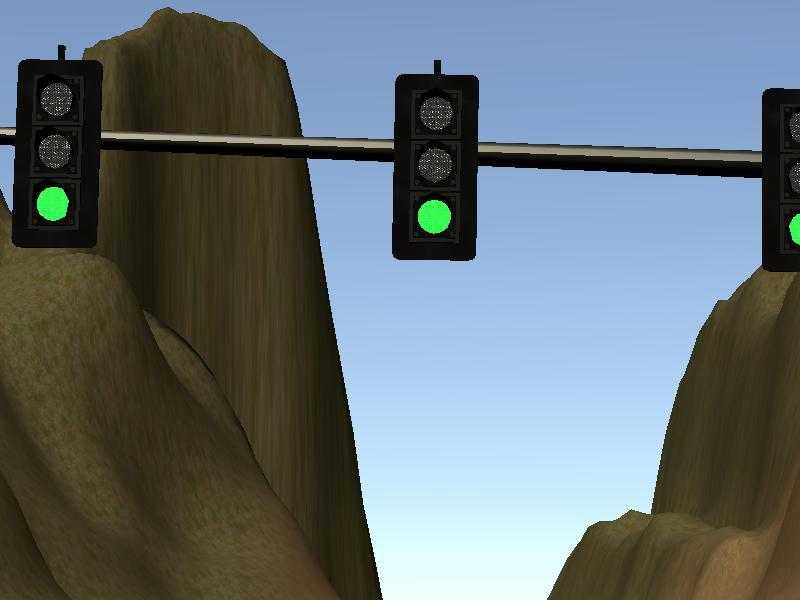Green: (392, 73, 480, 261), (16, 60, 102, 248), (762, 88, 800, 271)
